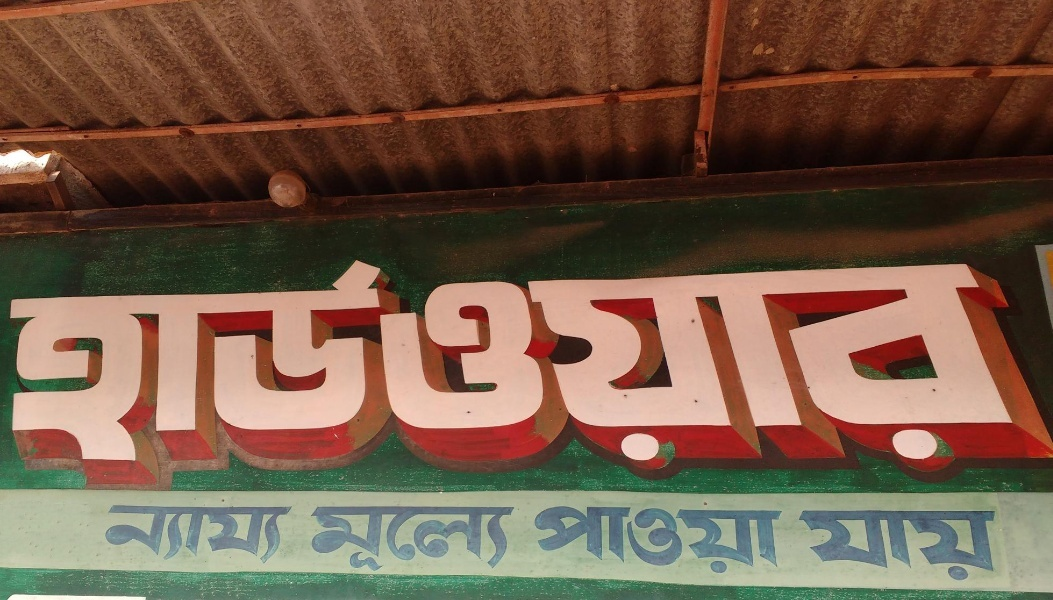text: (17, 250, 32, 485), (33, 250, 48, 485), (49, 250, 64, 485), (65, 250, 80, 485), (81, 250, 96, 485), (97, 250, 112, 485), (113, 250, 128, 485), (129, 250, 144, 485), (145, 250, 160, 485), (161, 250, 176, 485), (177, 250, 192, 485), (193, 250, 208, 485), (209, 250, 224, 485), (225, 250, 240, 485), (241, 250, 256, 485), (257, 250, 272, 485), (273, 250, 288, 485), (289, 250, 304, 485), (305, 250, 320, 485), (321, 250, 336, 485), (337, 250, 352, 485), (353, 250, 368, 485), (369, 250, 384, 485), (385, 250, 400, 485), (401, 250, 416, 485), (417, 250, 432, 485), (433, 250, 448, 485), (449, 250, 464, 485), (465, 250, 480, 485), (481, 250, 496, 485), (497, 250, 512, 485), (513, 250, 528, 485), (529, 250, 544, 485), (545, 250, 560, 485), (561, 250, 576, 485), (577, 250, 592, 485), (593, 250, 608, 485), (609, 250, 624, 485), (625, 250, 640, 485), (641, 250, 656, 485), (657, 250, 672, 485), (673, 250, 688, 485), (689, 250, 704, 485), (705, 250, 720, 485), (721, 250, 736, 485), (737, 250, 752, 485), (753, 250, 768, 485), (769, 250, 784, 485), (785, 250, 800, 485), (801, 250, 816, 485), (817, 250, 832, 485), (833, 250, 848, 485), (849, 250, 864, 485), (865, 250, 880, 485), (881, 250, 896, 485), (897, 250, 912, 485), (913, 250, 928, 485), (929, 250, 944, 485), (945, 250, 960, 485), (961, 250, 976, 485), (977, 250, 992, 485), (993, 250, 1008, 485), (1009, 250, 1024, 485), (1025, 250, 1040, 485), (1041, 250, 1051, 485), (8, 250, 16, 485), (17, 139, 32, 232), (33, 139, 48, 232), (49, 139, 64, 232), (65, 139, 80, 232), (81, 139, 96, 232), (97, 139, 112, 232), (2, 139, 16, 232), (545, 495, 560, 578), (561, 495, 576, 578), (577, 495, 592, 578), (593, 495, 608, 578), (609, 495, 624, 578), (625, 495, 640, 578), (641, 495, 656, 578), (657, 495, 672, 578), (673, 495, 688, 578), (689, 495, 704, 578), (705, 495, 720, 578), (721, 495, 736, 578), (737, 495, 752, 578), (753, 495, 768, 578), (769, 495, 784, 578), (801, 504, 816, 587), (817, 504, 832, 587), (833, 504, 848, 587), (849, 504, 864, 587), (865, 504, 880, 587), (881, 504, 896, 587), (897, 504, 912, 587), (913, 504, 928, 587), (929, 504, 944, 587), (945, 504, 960, 587), (961, 504, 976, 587), (977, 504, 992, 587), (321, 499, 336, 577), (337, 499, 352, 577), (353, 499, 368, 577), (369, 499, 384, 577), (385, 499, 400, 577), (401, 499, 416, 577), (417, 499, 432, 577), (433, 499, 448, 577), (449, 499, 464, 577), (465, 499, 480, 577), (481, 499, 496, 577), (497, 499, 512, 577), (531, 495, 544, 578), (113, 497, 128, 568), (129, 497, 144, 568), (145, 497, 160, 568), (161, 497, 176, 568), (177, 497, 192, 568), (193, 497, 208, 568), (209, 497, 224, 568), (225, 497, 240, 568), (241, 497, 256, 568), (257, 497, 272, 568), (273, 497, 288, 568), (113, 139, 121, 232), (311, 499, 320, 577), (993, 504, 1001, 587), (289, 497, 298, 568), (513, 499, 520, 577), (785, 495, 790, 578), (107, 497, 112, 568), (797, 504, 800, 587)
